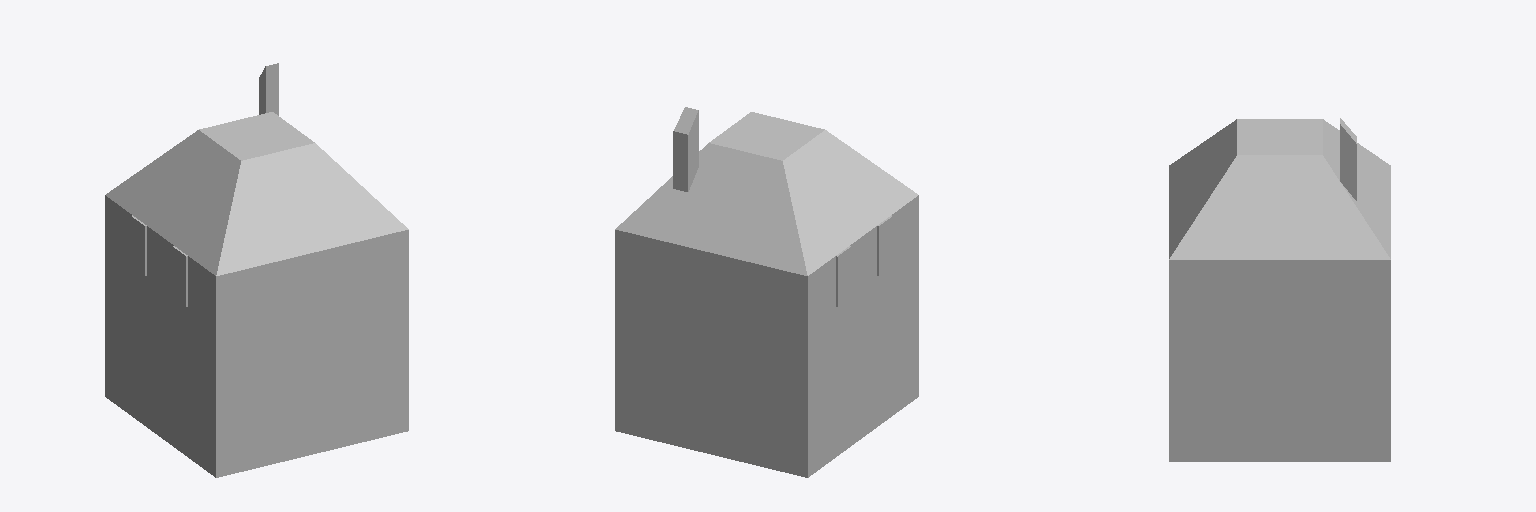
File: casa.obj
3 views of the same model, side by side, from view 1: azimuth 30°, elevation 25°; view 2: azimuth 150°, elevation 25°; view 3: azimuth 270°, elevation 25° (orthographic).
Visible parts, largest first — view 1: Cube; view 2: Cube; view 3: Cube.
Boxes of the visible parts, <box> form: Cube: <box>105,63,408,477</box>; Cube: <box>615,107,918,477</box>; Cube: <box>1169,118,1390,461</box>.
Size of the model in its own units: 2.02 by 3.14 by 2.